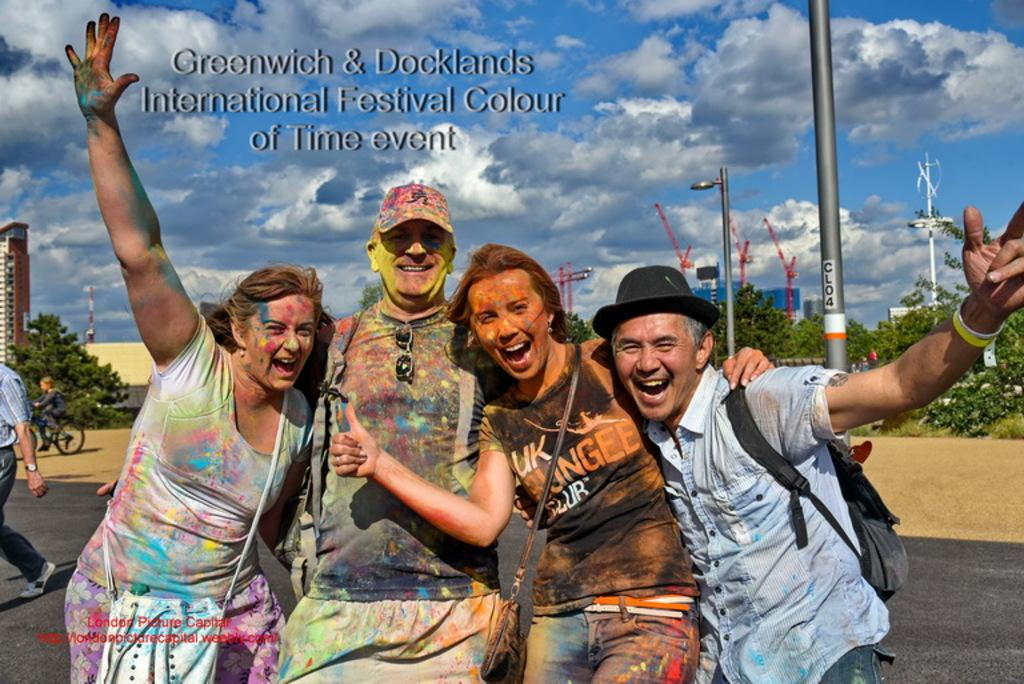Hat: (594, 263, 723, 343), (374, 181, 453, 234)
